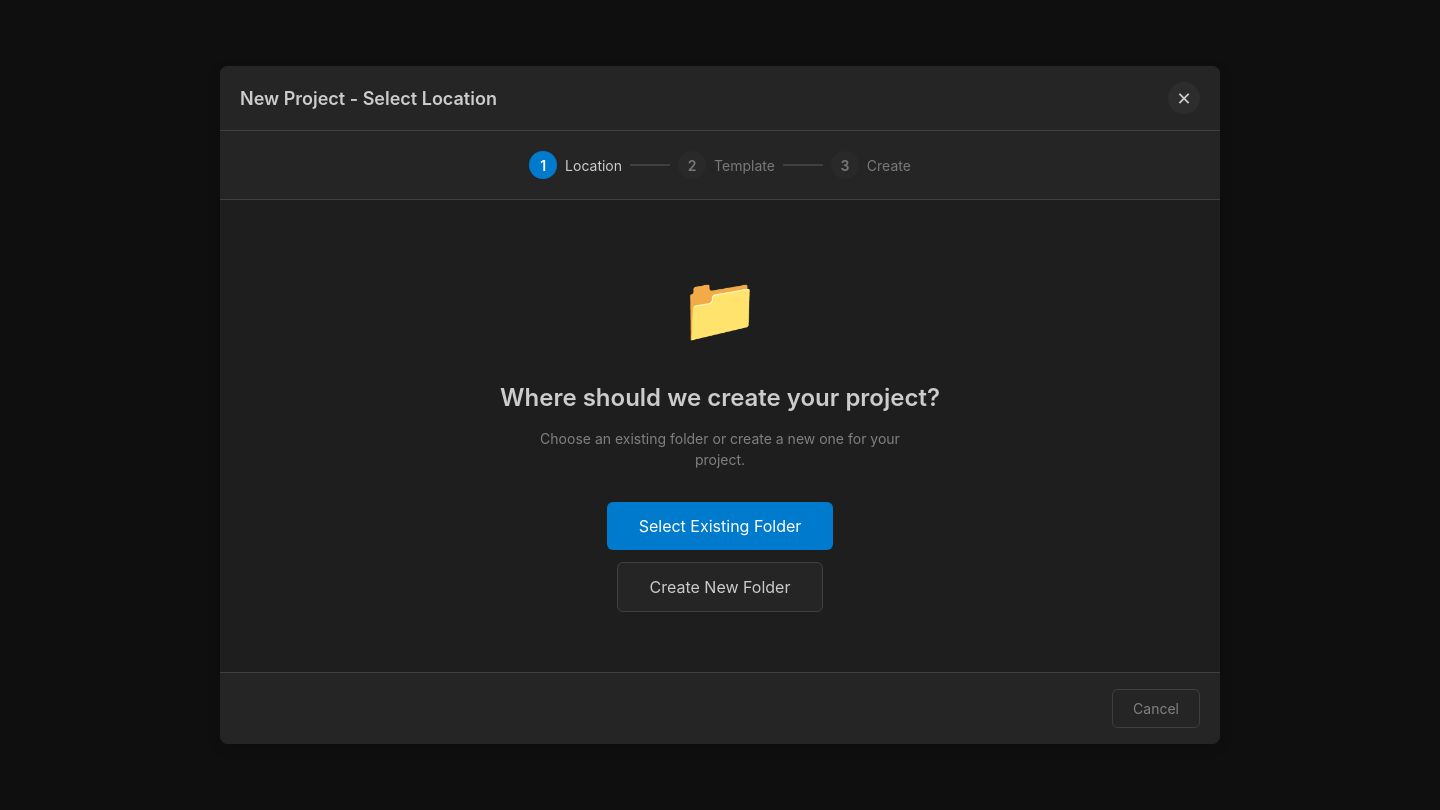
Test: NewProjectWizard › advances to template selection after folder is selected
Click the button "Select Existing Folder".
click(720, 526)  # box [607, 502, 833, 550]
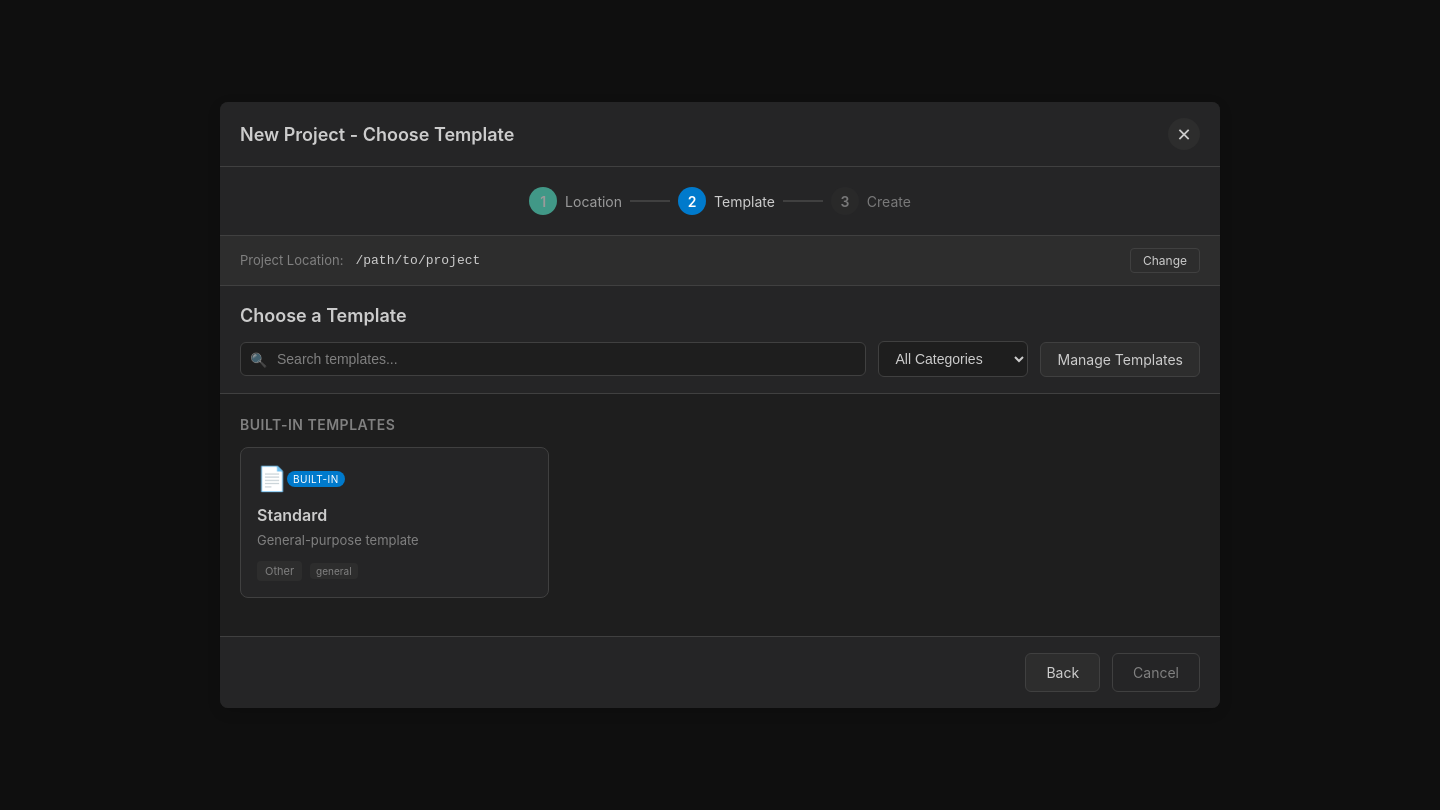
Check: the heading "New Project - Choose Template" is shown, box [240, 120, 514, 148]
